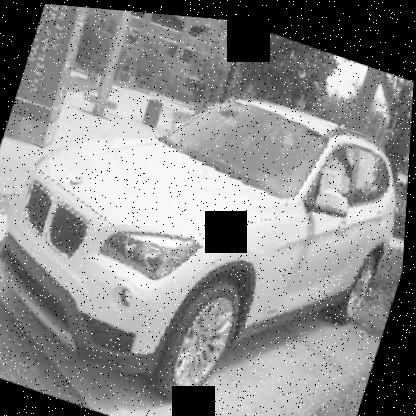not_emergency: (0, 28, 414, 415)
